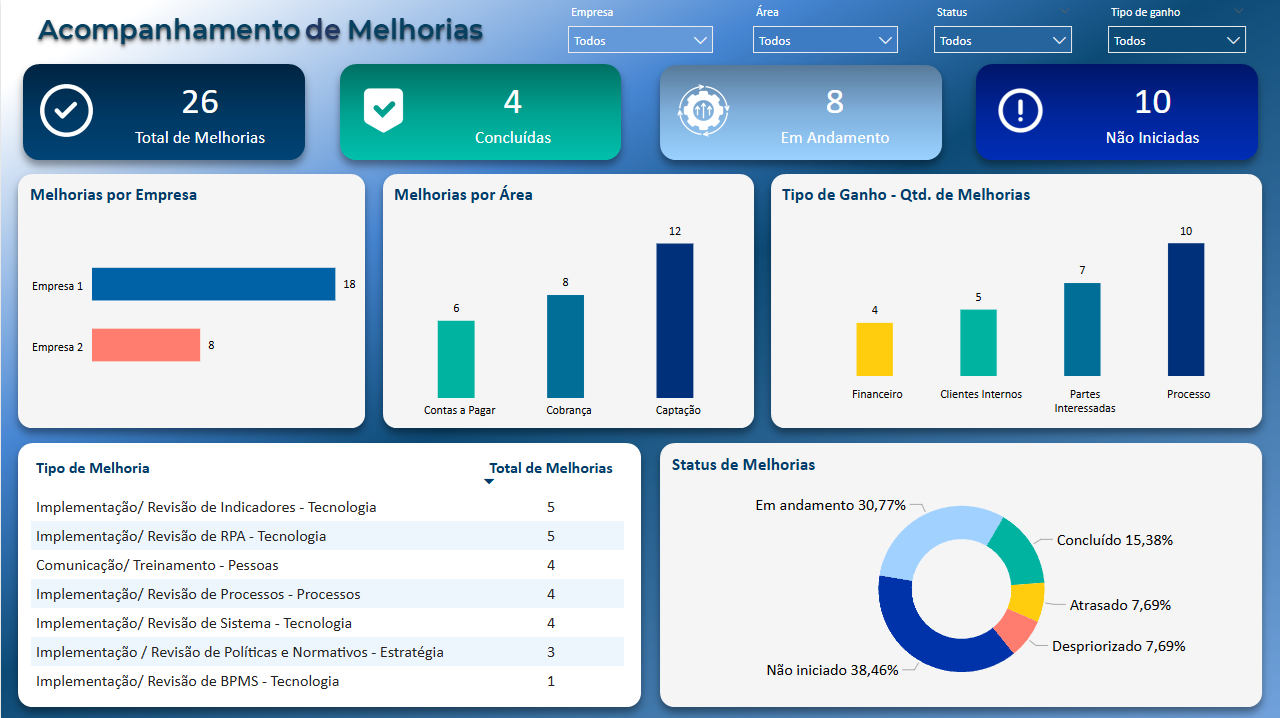

What the dashboard file says about the page in this screenshot:
{"tool":"powerbi","page":{"name":"Página 1","canvas":[1280,720],"ordinal":0},"visuals":[{"type":"card","fields":{"Values":["Medidas.Total Melhorias"]},"box":[96.4,66.4,204.5,97.3],"z":0},{"type":"card","fields":{"Values":["Medidas.Melhorias Em Andamento"]},"box":[731.1,67.8,205.6,95.6],"z":1000},{"type":"donutChart","title":"Status de Melhorias","fields":{"Category":["Base.Status"],"Y":["Medidas.Total Melhorias"]},"box":[22.7,178.2,483.6,248.2],"z":2000},{"type":"slicer","fields":{"Values":["Base.Empresa"]},"box":[557.3,4.5,164.5,49.1],"z":3000},{"type":"slicer","fields":{"Values":["Base.Área"]},"box":[741.8,4.5,165.5,49.1],"z":4000},{"type":"slicer","fields":{"Values":["Base.Status"]},"box":[922.7,4.5,158.2,49.1],"z":5000},{"type":"slicer","fields":{"Values":["Base.Tipo de ganho"]},"box":[1097.3,4.5,158.2,49.1],"z":6000},{"type":"clusteredColumnChart","title":"Tipo de Ganho - Qtd. de Melhorias","fields":{"Category":["Base.Tipo de ganho"],"Y":["Medidas.Total Melhorias"]},"box":[670.9,455.9,584.9,244.5],"z":7000},{"type":"card","fields":{"Values":["Medidas.Melhorias Não Iniciadas"]},"box":[1047.8,66.7,206.7,96.7],"z":8000},{"type":"card","fields":{"Values":["Medidas.Melhorias Concluídas"]},"box":[396.4,66.4,220,97.3],"z":9000},{"type":"tableEx","fields":{"Values":["Base.Tipo de Melhoria","Medidas.Ranking do Produto"]},"box":[22.7,448.2,623.6,260],"z":10000},{"type":"clusteredBarChart","title":"Melhorias por Empresa","fields":{"Category":["Base.Empresa"],"Y":["Medidas.Total Melhorias"]},"box":[923.1,184.4,331.6,228.8],"z":11000},{"type":"clusteredColumnChart","title":"Melhorias por Área","fields":{"Category":["Base.Área"],"Y":["Medidas.Total Melhorias"]},"box":[531.1,182.7,360,239.4],"z":12000}]}

Visuals, with their boxes in screenshot pixels (x1, y1, x2, y2), scaled from the page's 1280x720 canvas onto the 1280x718 screenshot:
card - Medidas.Total Melhorias: {"x1": 96, "y1": 66, "x2": 301, "y2": 163}
card - Medidas.Melhorias Em Andamento: {"x1": 731, "y1": 68, "x2": 937, "y2": 163}
"Status de Melhorias" donutChart: {"x1": 23, "y1": 178, "x2": 506, "y2": 425}
slicer - Base.Empresa: {"x1": 557, "y1": 4, "x2": 722, "y2": 53}
slicer - Base.Área: {"x1": 742, "y1": 4, "x2": 907, "y2": 53}
slicer - Base.Status: {"x1": 923, "y1": 4, "x2": 1081, "y2": 53}
slicer - Base.Tipo de ganho: {"x1": 1097, "y1": 4, "x2": 1256, "y2": 53}
"Tipo de Ganho - Qtd. de Melhorias" clusteredColumnChart: {"x1": 671, "y1": 455, "x2": 1256, "y2": 698}
card - Medidas.Melhorias Não Iniciadas: {"x1": 1048, "y1": 67, "x2": 1254, "y2": 163}
card - Medidas.Melhorias Concluídas: {"x1": 396, "y1": 66, "x2": 616, "y2": 163}
tableEx - Base.Tipo de Melhoria x Medidas.Ranking do Produto: {"x1": 23, "y1": 447, "x2": 646, "y2": 706}
"Melhorias por Empresa" clusteredBarChart: {"x1": 923, "y1": 184, "x2": 1255, "y2": 412}
"Melhorias por Área" clusteredColumnChart: {"x1": 531, "y1": 182, "x2": 891, "y2": 421}
